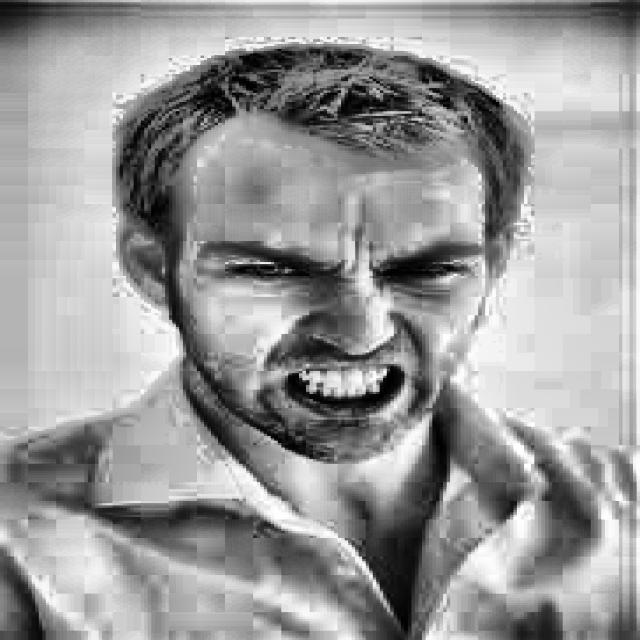angry: (77, 26, 542, 484)
